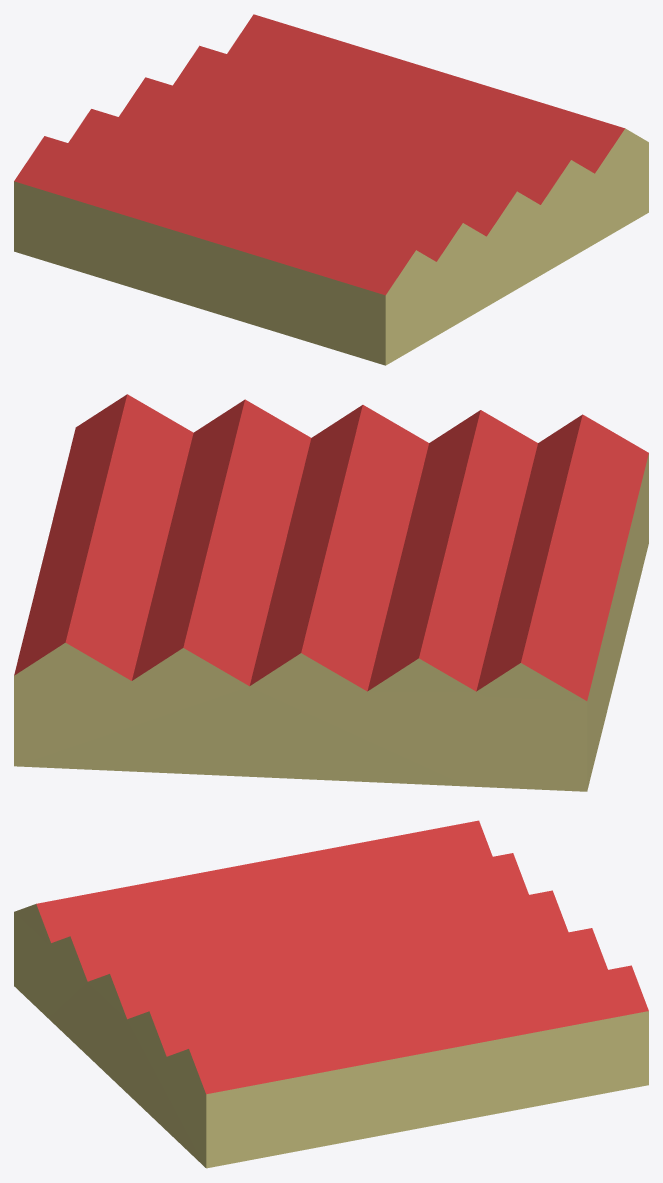
The picture shows the model from 3 angles, top to bottom: view 1: azimuth 30°, elevation 25°; view 2: azimuth 150°, elevation 25°; view 3: azimuth 270°, elevation 25°; orthographic projection. The views are drawn at different scales.
Size of the model in its own units: 42.9 by 43.32 by 7.78.
